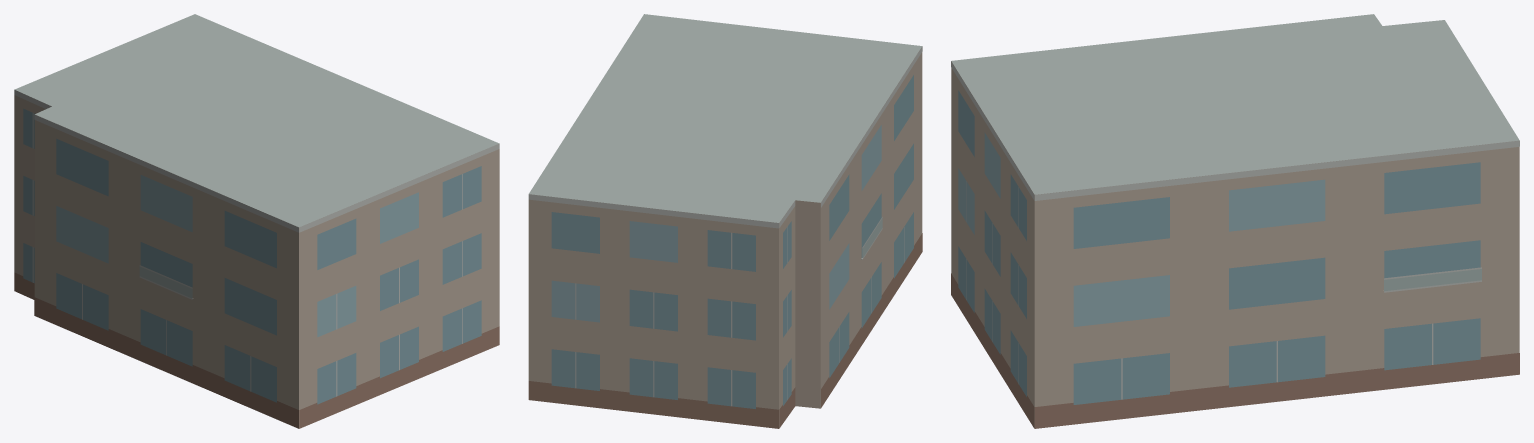
Rendered from survey-upis-32596557.glb.
3 views of the same model, side by side, from view 1: azimuth 30°, elevation 25°; view 2: azimuth 150°, elevation 25°; view 3: azimuth 270°, elevation 25° (orthographic). The views are drawn at different scales.
Visible parts, largest first — view 1: survey-upis-32596557.tmp; view 2: survey-upis-32596557.tmp; view 3: survey-upis-32596557.tmp.
Part boxes in pixels (box(x1,y1,x2,y2)): survey-upis-32596557.tmp: box(14, 14, 499, 428); survey-upis-32596557.tmp: box(528, 14, 922, 428); survey-upis-32596557.tmp: box(951, 14, 1519, 428).
Size of the model in its own units: 15.17 by 9.15 by 20.16.
